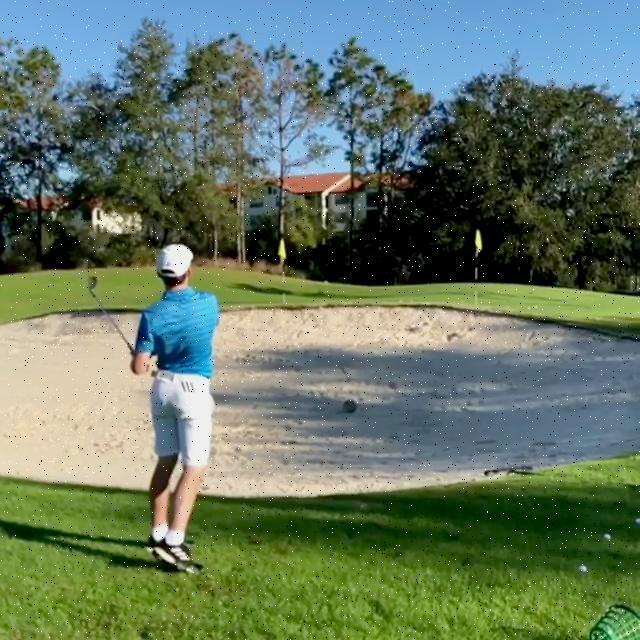golf ball: (578, 565, 588, 573), (602, 532, 611, 540), (634, 516, 640, 524)
golf club-handle: (86, 274, 134, 352)
golf club-head: (86, 275, 98, 290)
